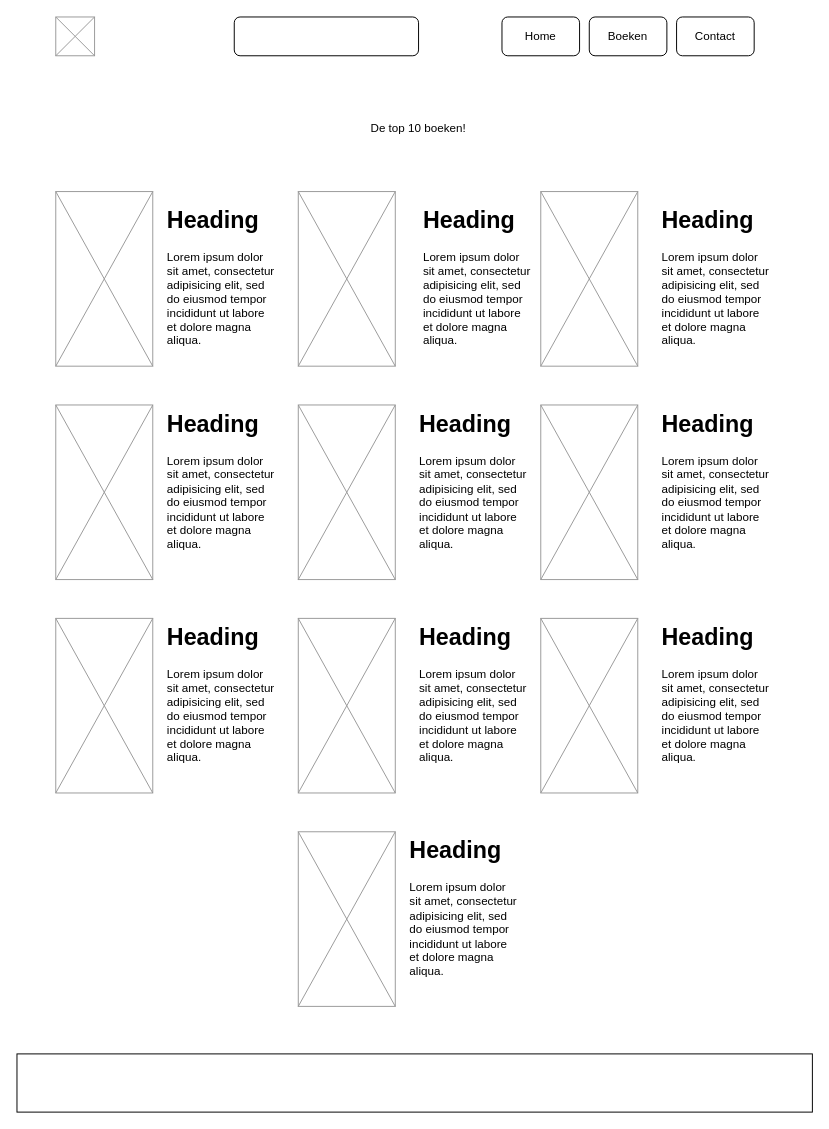
Some shapes in this 829 by 1129 pixel diagram are drawn without their labels. Each missing label, with the centre of its shape:
"Footer" goes at point 414,1082.
"Zoek" goes at point 326,36.
